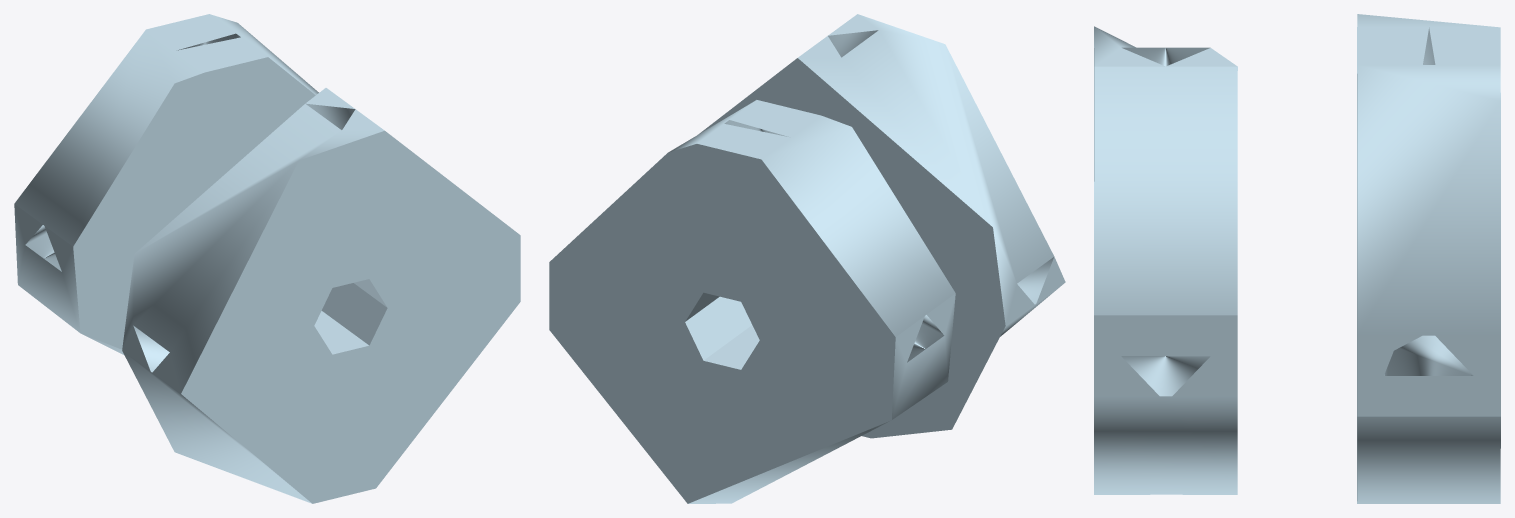
The model's file is decode-transfer.glb.
The picture shows the model from 3 angles, left to right: view 1: azimuth 30°, elevation 25°; view 2: azimuth 150°, elevation 25°; view 3: azimuth 270°, elevation 25°; orthographic projection. The views are drawn at different scales.
Parts seen in each view (by area): view 1: telemark-cad-transfer; view 2: telemark-cad-transfer; view 3: telemark-cad-transfer.
Boxes of the visible parts, bbox=[...] form: telemark-cad-transfer: bbox=[14, 14, 520, 503]; telemark-cad-transfer: bbox=[549, 14, 1065, 503]; telemark-cad-transfer: bbox=[1094, 14, 1500, 503].
Bounding box in the file's own units: 0.04 × 0.0404 × 0.034.
Materials: 1 (1 with a texture image).
